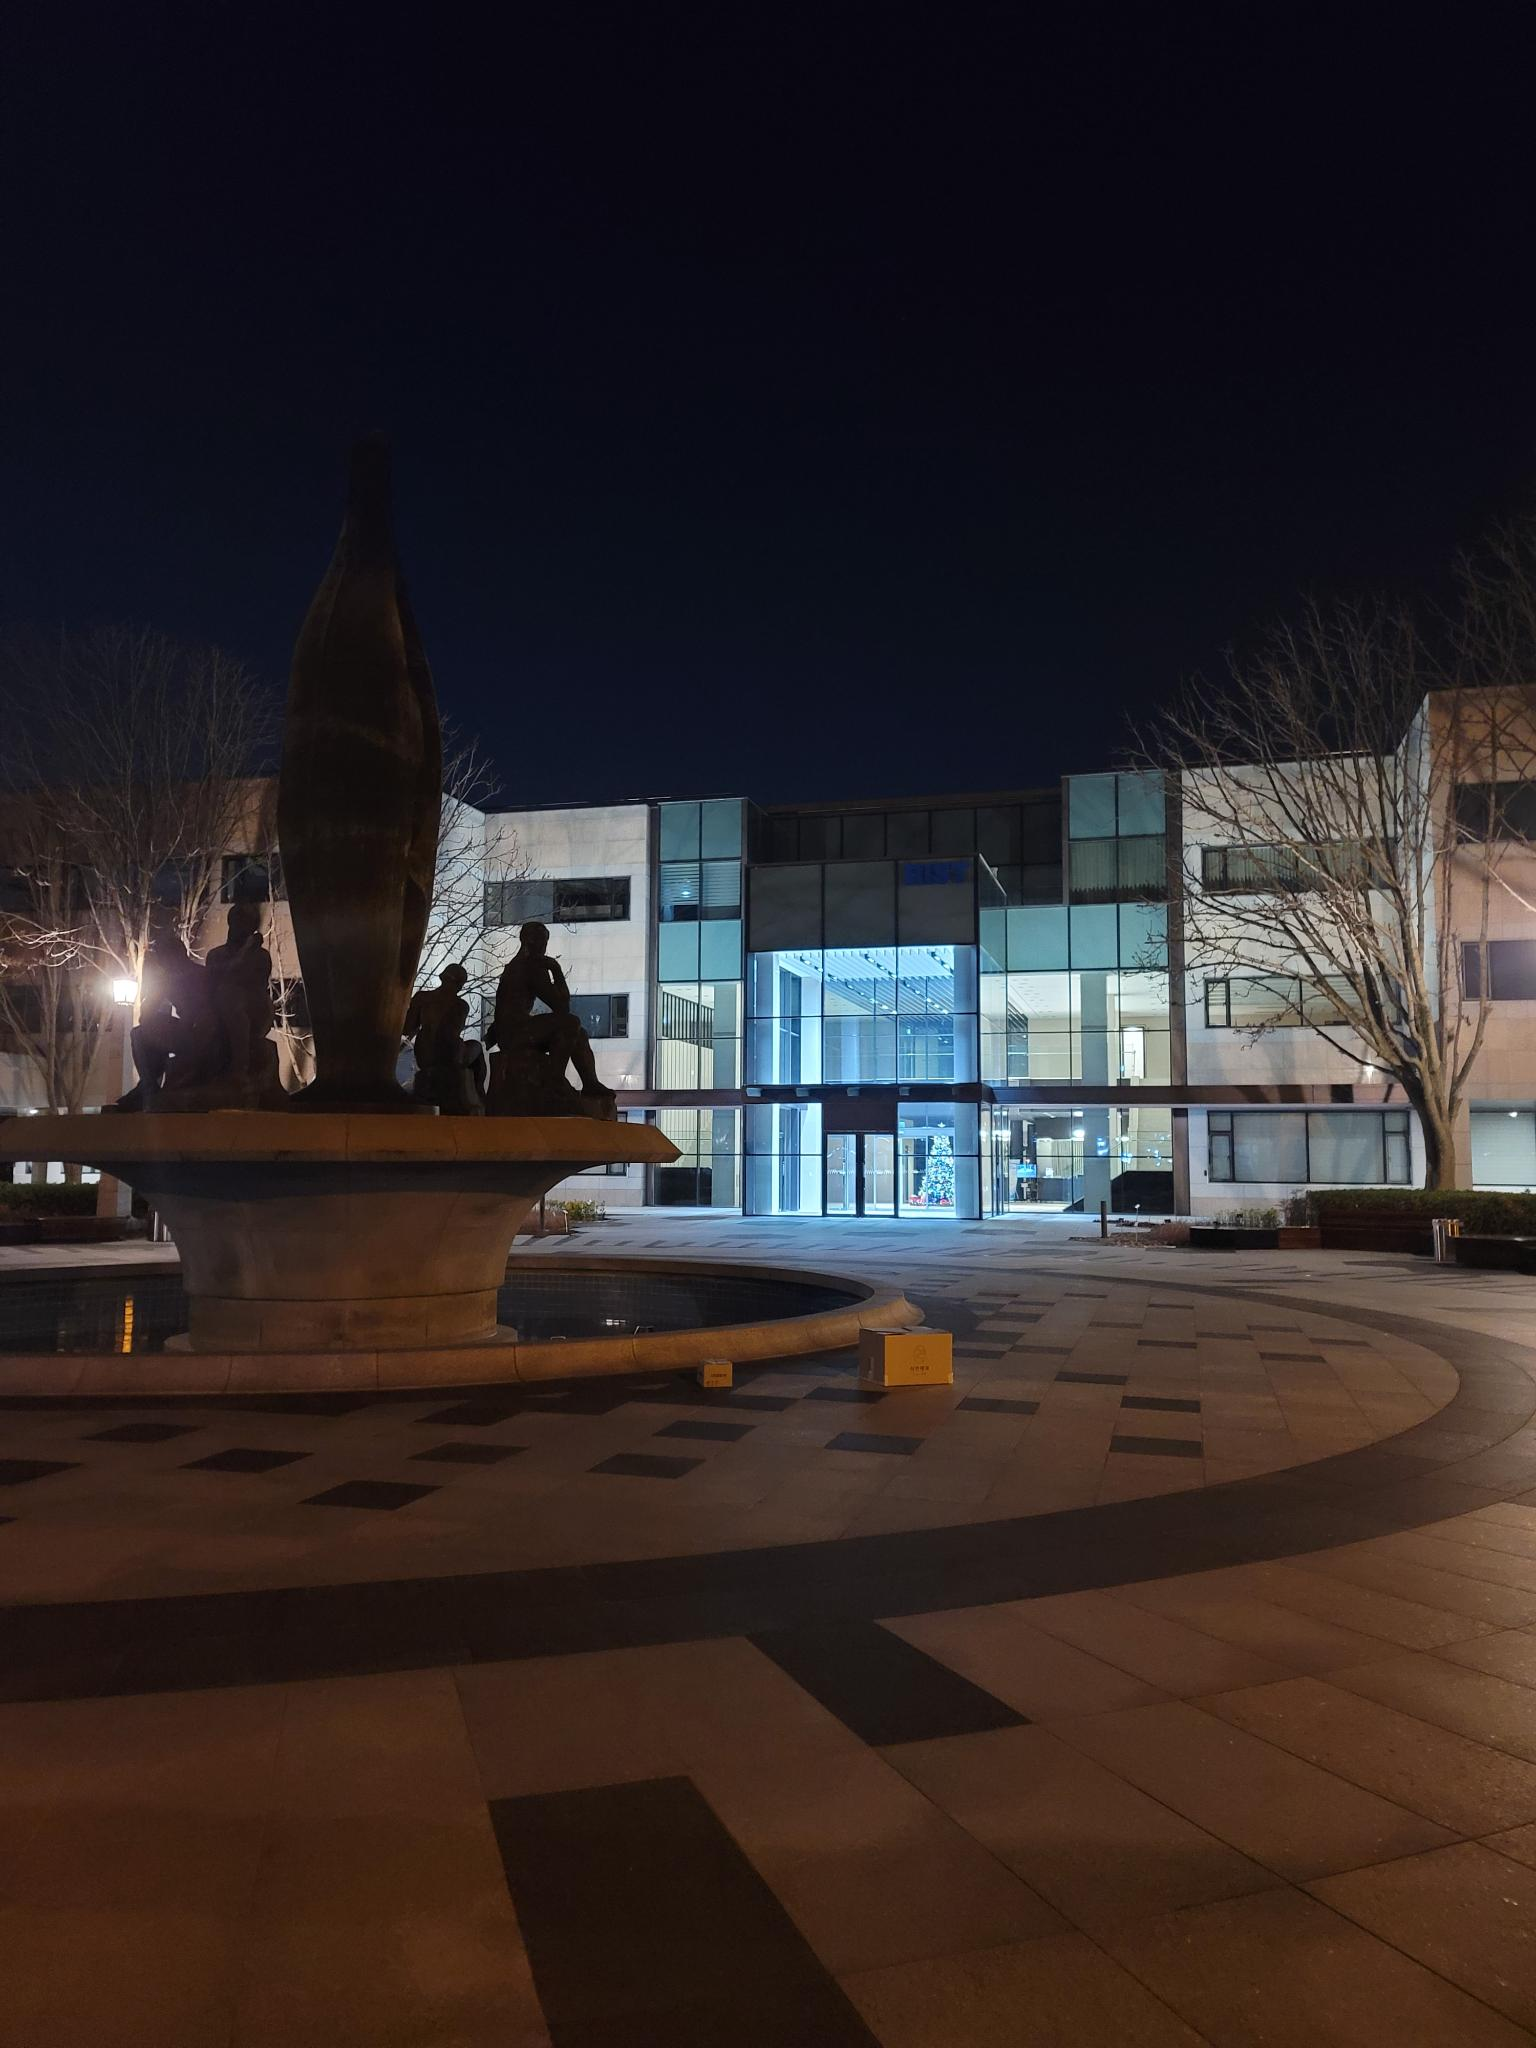Box: (858, 1314, 968, 1395), (694, 1342, 737, 1393)
